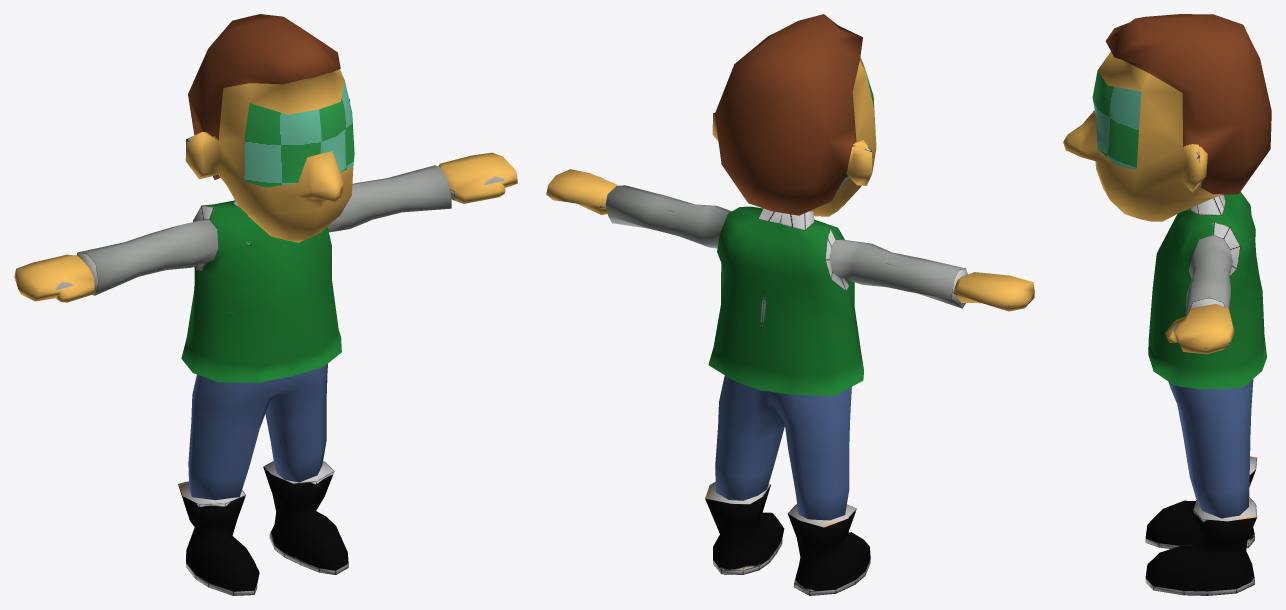
File: dad_eyesandmouth.glb
3 renders of one model, left to right at view 1: azimuth 30°, elevation 25°; view 2: azimuth 150°, elevation 25°; view 3: azimuth 270°, elevation 25°, orthographic. The views are drawn at different scales.
Visible parts, largest first — view 1: dad_body, dad_eyes; view 2: dad_body; view 3: dad_body, dad_eyes.
Part boxes in pixels (<box>): dad_body: <box>14,14,517,595</box>; dad_eyes: <box>244,80,354,187</box>; dad_body: <box>546,14,1034,595</box>; dad_body: <box>1063,14,1271,595</box>; dad_eyes: <box>1092,70,1141,169</box>.
Size of the model in its own units: 0.992 by 1.05 by 0.3635.
4 materials, 4 textured.
